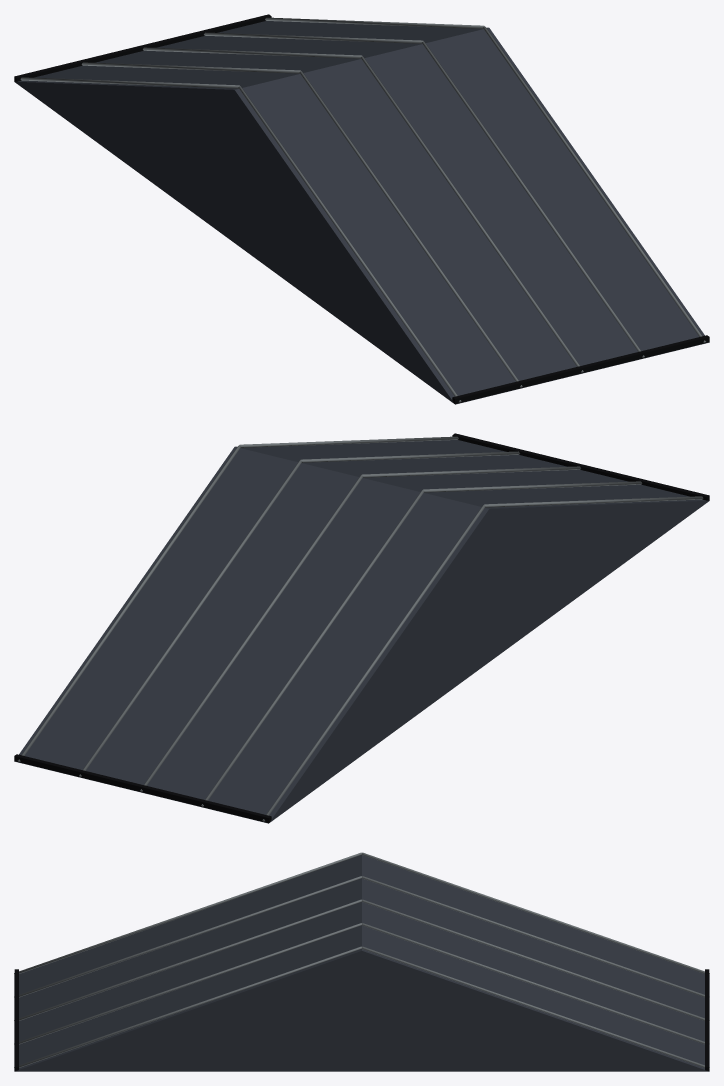
File: roof-zinc-2m.glb
3 views of the same model, one above another, from view 1: azimuth 30°, elevation 25°; view 2: azimuth 150°, elevation 25°; view 3: azimuth 270°, elevation 25° (orthographic). The views are drawn at different scales.
Visible parts, largest first — view 1: roof-zinc-2m; view 2: roof-zinc-2m; view 3: roof-zinc-2m.
Part boxes in pixels (x1,y1,x2,y2): roof-zinc-2m: (14, 14, 709, 404); roof-zinc-2m: (14, 433, 709, 823); roof-zinc-2m: (14, 852, 709, 1071).
Size of the model in its own units: 2 by 1.17 by 6.01.
1 material, 1 textured.
